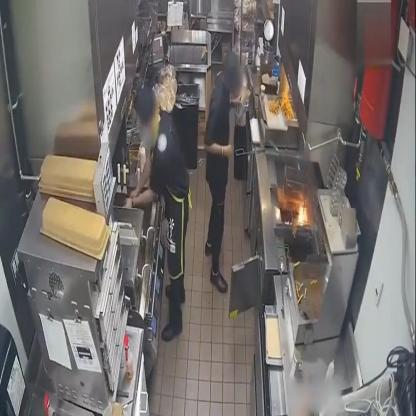fire: (295, 201, 310, 227)
